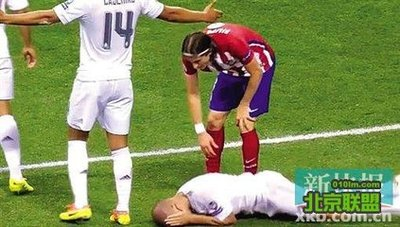fall: (148, 161, 333, 227)
